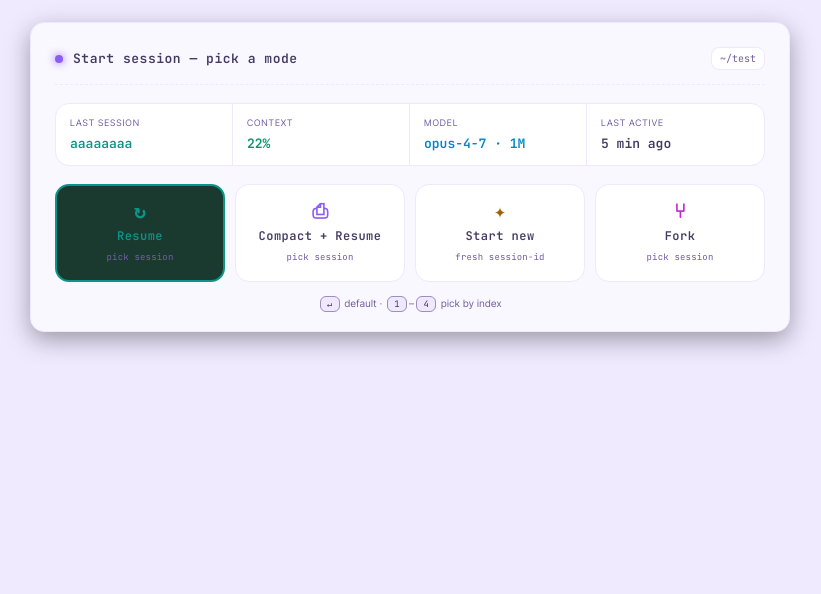
Test: StartChooser button highlight › clicking Compact+Resume moves green border off Resume onto Compact+Resume
# Click Compact+Resume → opens picker → highlight should move
Click the button "⎙ Compact + Resume pick session" at (320, 233), box [235, 184, 405, 282]
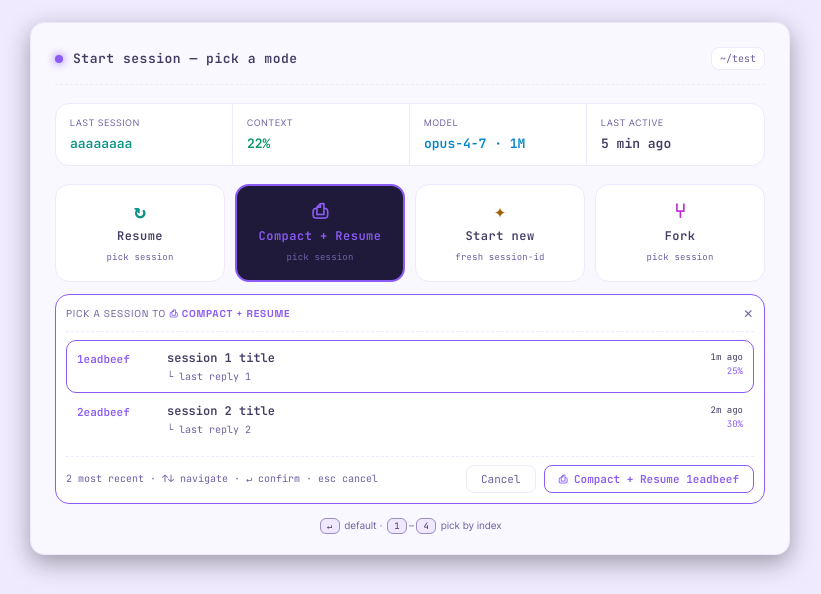
Check: the text "Pick a session to ⎙ Compact + Resume" is shown, box [66, 306, 290, 321]
